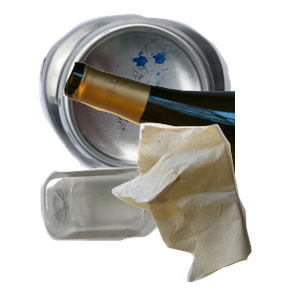glass: (60, 59, 300, 231)
metal: (37, 11, 261, 180)
plastic: (38, 165, 255, 300)
trash: (109, 120, 300, 300)
